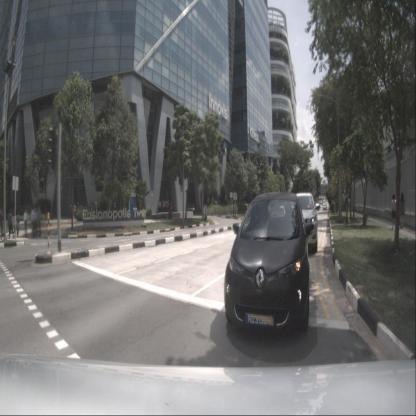human-pedestrian-adult: (390, 193, 398, 230), (399, 191, 406, 230), (7, 209, 14, 240), (0, 208, 5, 241), (16, 210, 21, 238), (23, 209, 28, 236), (38, 204, 42, 236), (32, 207, 36, 237), (12, 211, 16, 239), (35, 208, 38, 236), (169, 201, 173, 215), (73, 204, 76, 221), (162, 199, 165, 213), (167, 198, 170, 212), (165, 199, 168, 212), (70, 203, 72, 221), (159, 200, 161, 213)
vehicle-car: (224, 192, 310, 336), (281, 193, 318, 254), (322, 203, 326, 211)
vehicle-motorcycle: (167, 204, 173, 220)
